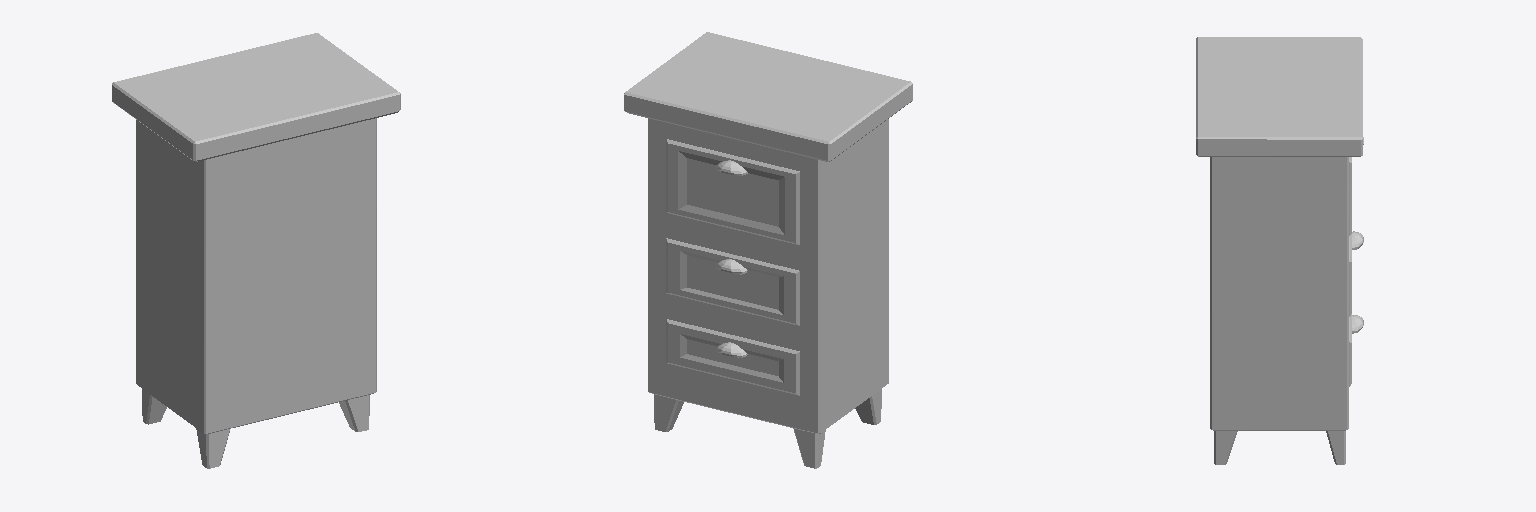
The model's file is nightstand.obj.
3 views of the same model, side by side, from view 1: azimuth 30°, elevation 25°; view 2: azimuth 150°, elevation 25°; view 3: azimuth 270°, elevation 25° (orthographic).
Parts seen in each view (by area): view 1: nightstand nightstand; view 2: nightstand nightstand, nightstand handles; view 3: nightstand nightstand.
Part boxes in pixels (x1,y1,x2,y2): nightstand nightstand: (112,33,400,468); nightstand nightstand: (624,32,912,468); nightstand handles: (716,160,747,357); nightstand nightstand: (1196,37,1362,464).
Bounding box in the file's own units: 1.91 × 2.98 × 1.35.